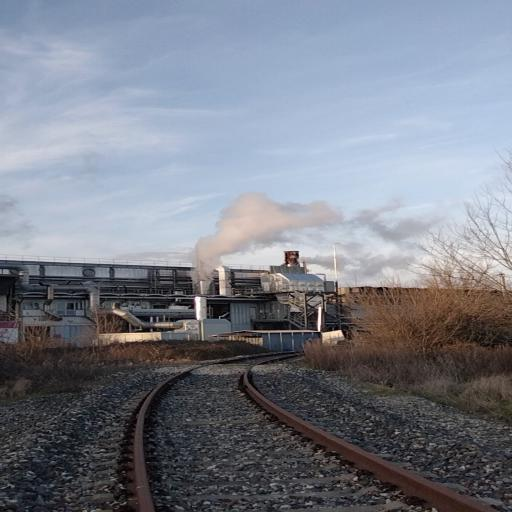leakage: (174, 184, 463, 296)
